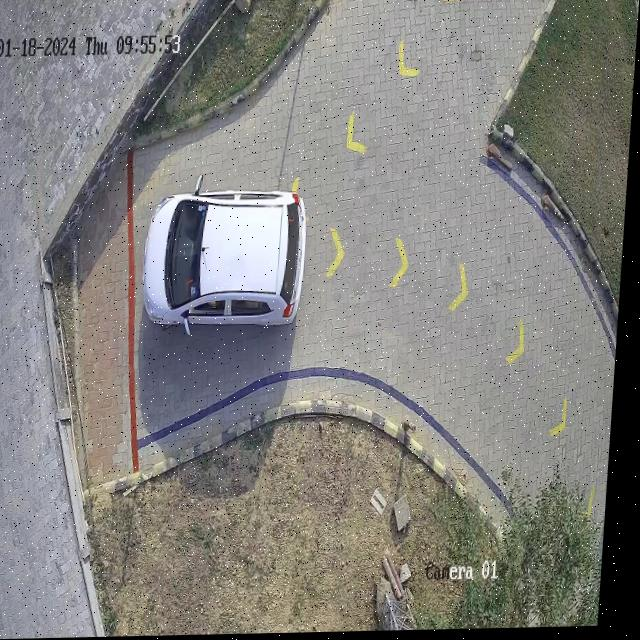car: (146, 176, 310, 332)
